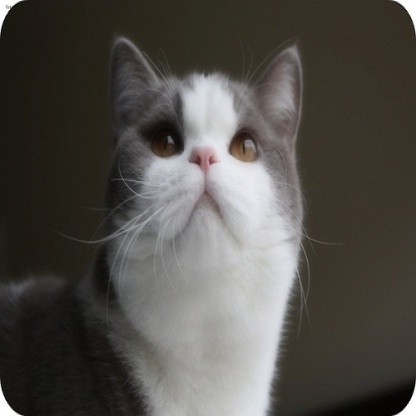british_shorthair: (1, 35, 300, 416)
